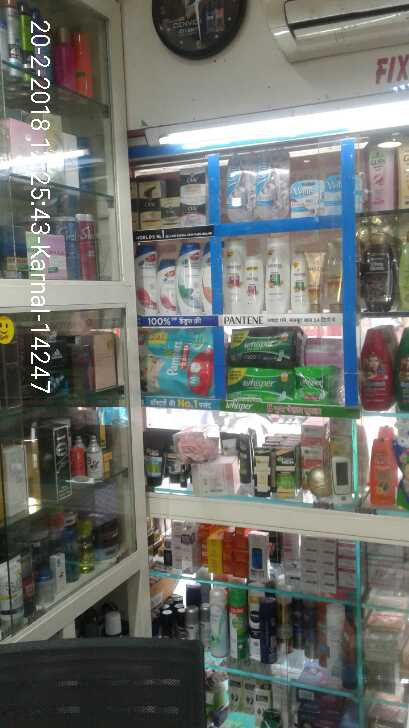gillete: (317, 601, 326, 667), (306, 599, 315, 656), (294, 597, 303, 648), (162, 611, 171, 637)
venus: (255, 152, 286, 217), (226, 156, 255, 217), (289, 181, 319, 214), (324, 174, 342, 212)
